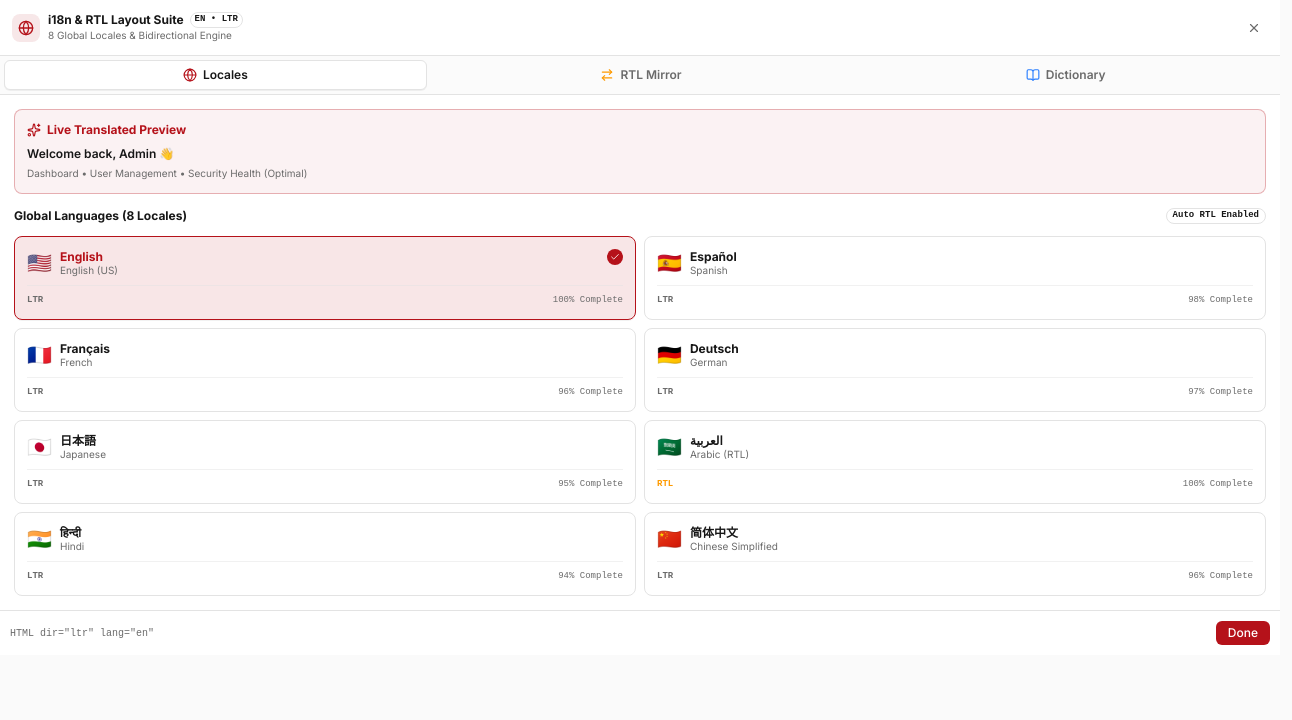
Test case: I18nPanel Component › switches tabs to RTL Mirror and displays direction controls
Click the button "RTL Mirror".
click(641, 75)  # box x1=431 y1=60 x2=851 y2=90
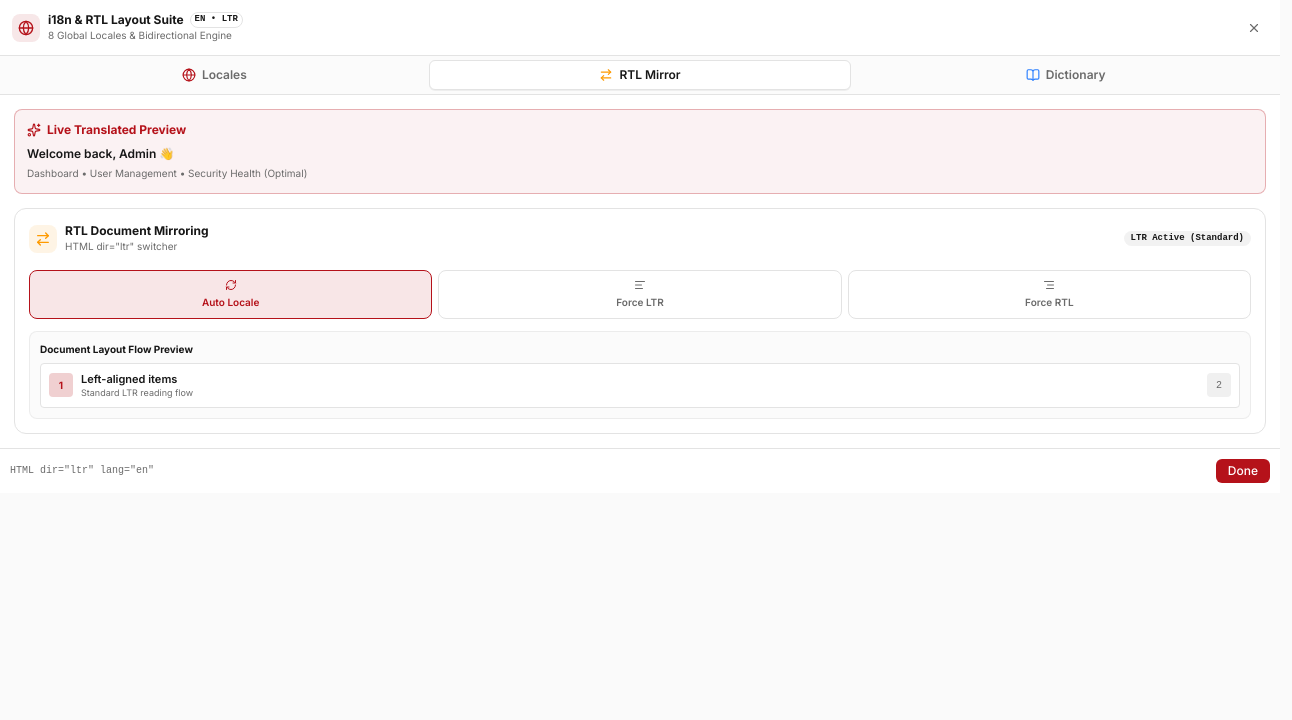
Expected: the heading "RTL Document Mirroring" is shown, x1=65 y1=223 x2=208 y2=239
Expected: the text "Force RTL" is shown, x1=1025 y1=295 x2=1074 y2=310
